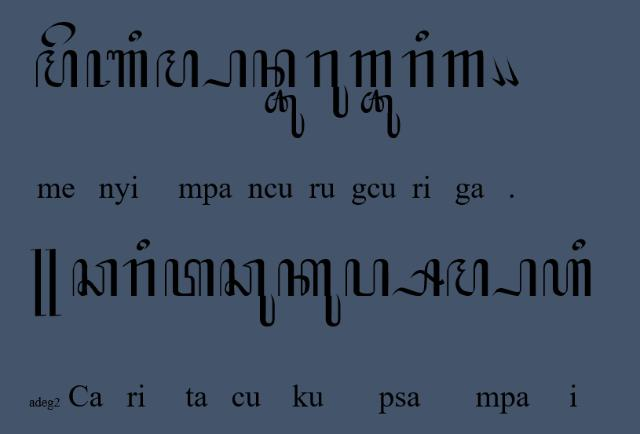_cu: (264, 88, 304, 140), (361, 88, 401, 138)
_p: (200, 49, 248, 89), (490, 258, 538, 298)
_s: (392, 258, 446, 300)
adeg2: (30, 249, 61, 318)
c: (72, 258, 120, 298)
cu: (219, 258, 277, 328)
e: (40, 20, 76, 48)
g: (350, 50, 392, 88), (442, 50, 484, 88)
h: (542, 256, 594, 298)
i: (128, 29, 144, 43), (415, 28, 429, 44), (136, 239, 150, 253), (572, 238, 586, 252)
kom: (501, 55, 519, 88), (490, 54, 506, 86)
ku: (276, 258, 342, 328)
m: (155, 47, 199, 89), (35, 49, 79, 89), (446, 258, 489, 298)
n: (252, 50, 296, 88)
ny1: (85, 49, 148, 90)
p: (344, 258, 390, 298)
r: (400, 50, 436, 88), (121, 258, 155, 298)
ru: (306, 49, 348, 119)
t: (163, 258, 214, 298)
